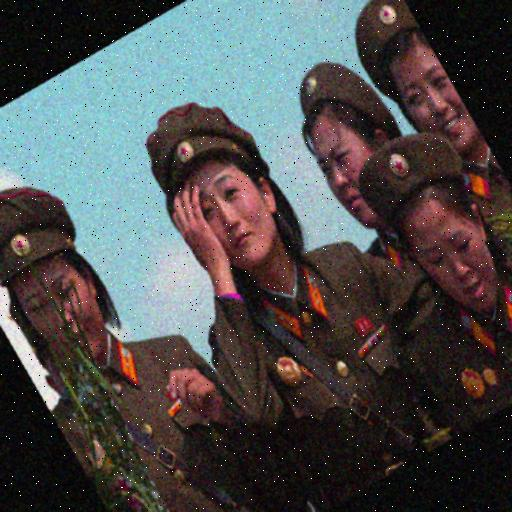north army: (14, 50, 512, 474)
